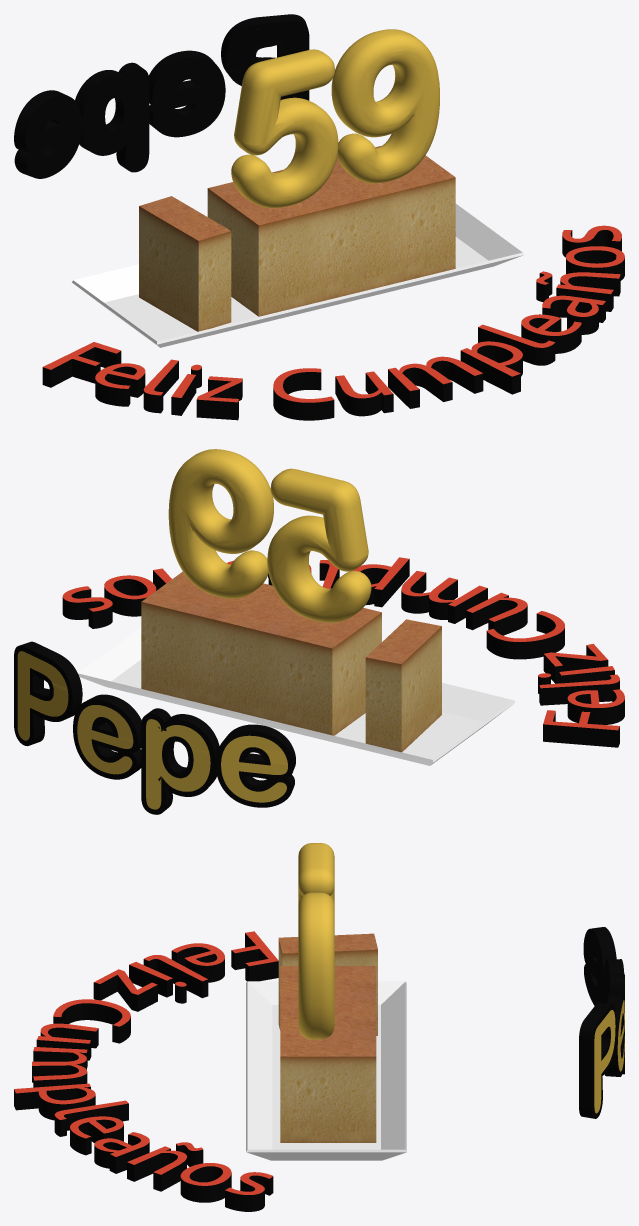
File: Feliz59Cumpleans.glb
3 renders of one model, top to bottom at view 1: azimuth 30°, elevation 25°; view 2: azimuth 150°, elevation 25°; view 3: azimuth 270°, elevation 25°, orthographic. The views are drawn at different scales.
Visible parts, largest first — view 1: Text.002, Box003, Text, Box001, Plane001; view 2: Text.002, Box003, Text, Plane001, Box001; view 3: Text.002, Box003, Plane001, Text, Box001.
Part boxes in pixels (x1=…): Text.002: x1=14, y1=14, x2=624, y2=420; Box003: x1=207, y1=145, x2=455, y2=316; Text: x1=231, y1=29, x2=439, y2=208; Box001: x1=139, y1=196, x2=231, y2=331; Plane001: x1=72, y1=203, x2=523, y2=347; Text.002: x1=14, y1=557, x2=624, y2=814; Box003: x1=141, y1=571, x2=381, y2=735; Text: x1=168, y1=449, x2=371, y2=622; Plane001: x1=78, y1=627, x2=515, y2=765; Box001: x1=365, y1=619, x2=441, y2=752; Text.002: x1=14, y1=927, x2=624, y2=1211; Box003: x1=280, y1=966, x2=376, y2=1142; Plane001: x1=246, y1=981, x2=406, y2=1160; Text: x1=298, y1=843, x2=334, y2=1039; Box001: x1=278, y1=933, x2=377, y2=1035.
Size of the model in its own units: 2 by 0.7888 by 1.96.
6 materials, 2 textured.
